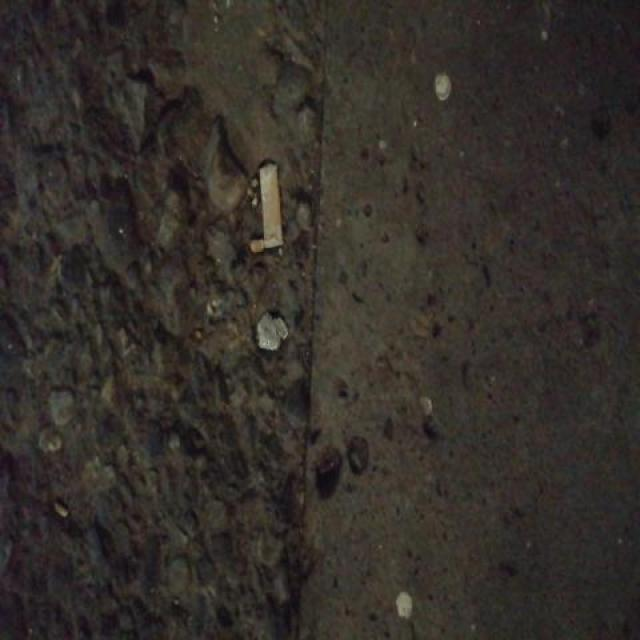non-organic waste: (254, 157, 289, 256)
